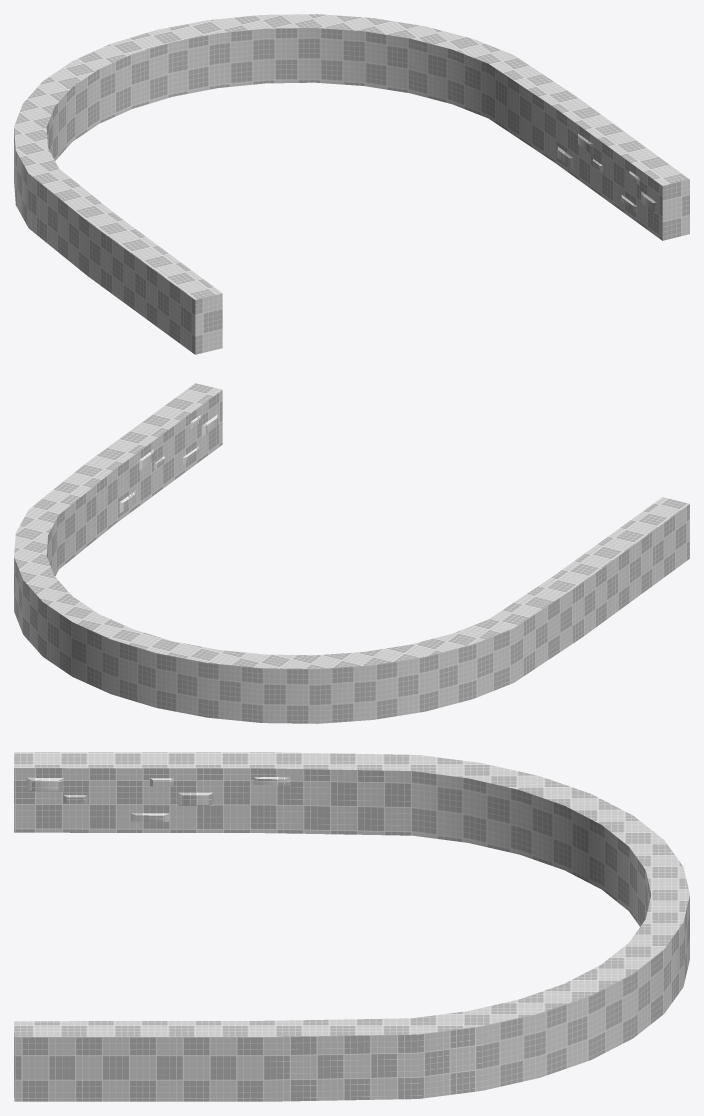
The model's file is Tuto_Room_8.fbx.
3 renders of one model, top to bottom at view 1: azimuth 30°, elevation 25°; view 2: azimuth 150°, elevation 25°; view 3: azimuth 270°, elevation 25°, orthographic. The views are drawn at different scales.
Parts seen in each view (by area): view 1: Circle; view 2: Circle; view 3: Circle.
Part boxes in pixels (box(x1,y1,x2,y2)): Circle: box(14, 14, 689, 354); Circle: box(14, 383, 689, 723); Circle: box(14, 752, 689, 1101).
Size of the model in its own units: 4450 by 471 by 4462.
